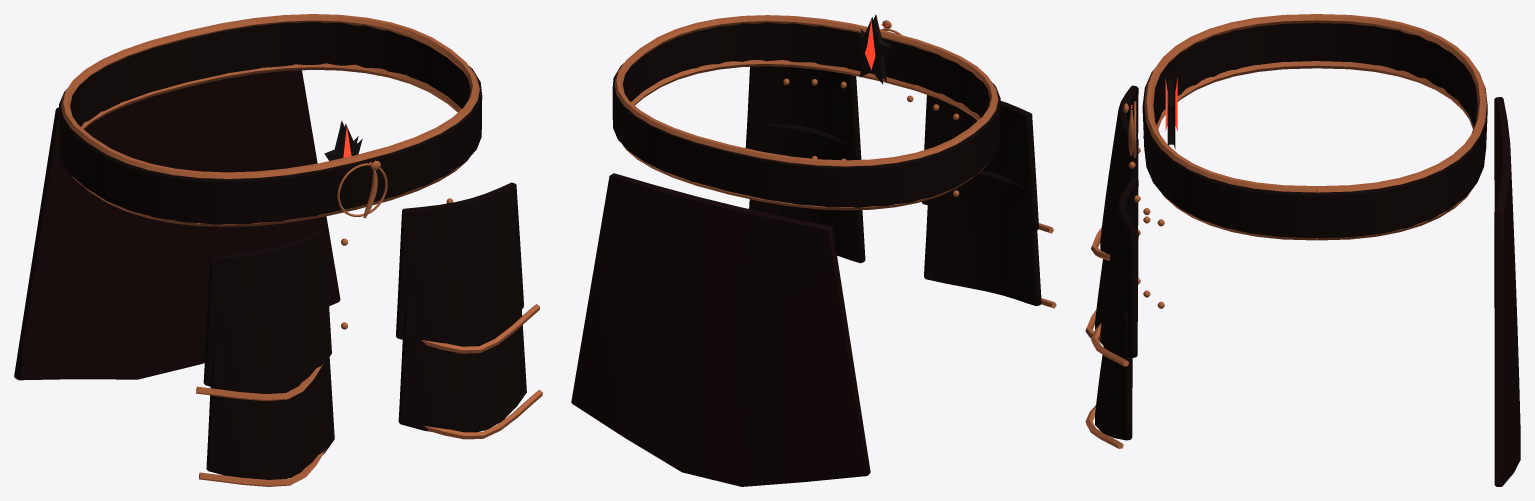
File: asc_abyssal_fang_inner.glb
3 views of the same model, side by side, from view 1: azimuth 30°, elevation 25°; view 2: azimuth 150°, elevation 25°; view 3: azimuth 270°, elevation 25° (orthographic). The views are drawn at different scales.
Visible parts, largest first — view 1: asc_abyssal_fang_inner, AT_thigh_R, AT_thigh_L; view 2: asc_abyssal_fang_inner, AT_thigh_R, AT_thigh_L; view 3: asc_abyssal_fang_inner, AT_thigh_L, AT_thigh_R.
Boxes of the visible parts, bbox=[...] form: asc_abyssal_fang_inner: bbox=[14, 14, 482, 380]; AT_thigh_R: bbox=[196, 229, 347, 486]; AT_thigh_L: bbox=[396, 182, 542, 439]; asc_abyssal_fang_inner: bbox=[571, 14, 1000, 486]; AT_thigh_R: bbox=[907, 95, 1056, 308]; AT_thigh_L: bbox=[745, 66, 865, 263]; asc_abyssal_fang_inner: bbox=[1123, 14, 1520, 486]; AT_thigh_L: bbox=[1085, 177, 1164, 448]; AT_thigh_R: bbox=[1085, 85, 1150, 341].
Size of the model in its own units: 0.4641 by 0.4504 by 0.4788.
